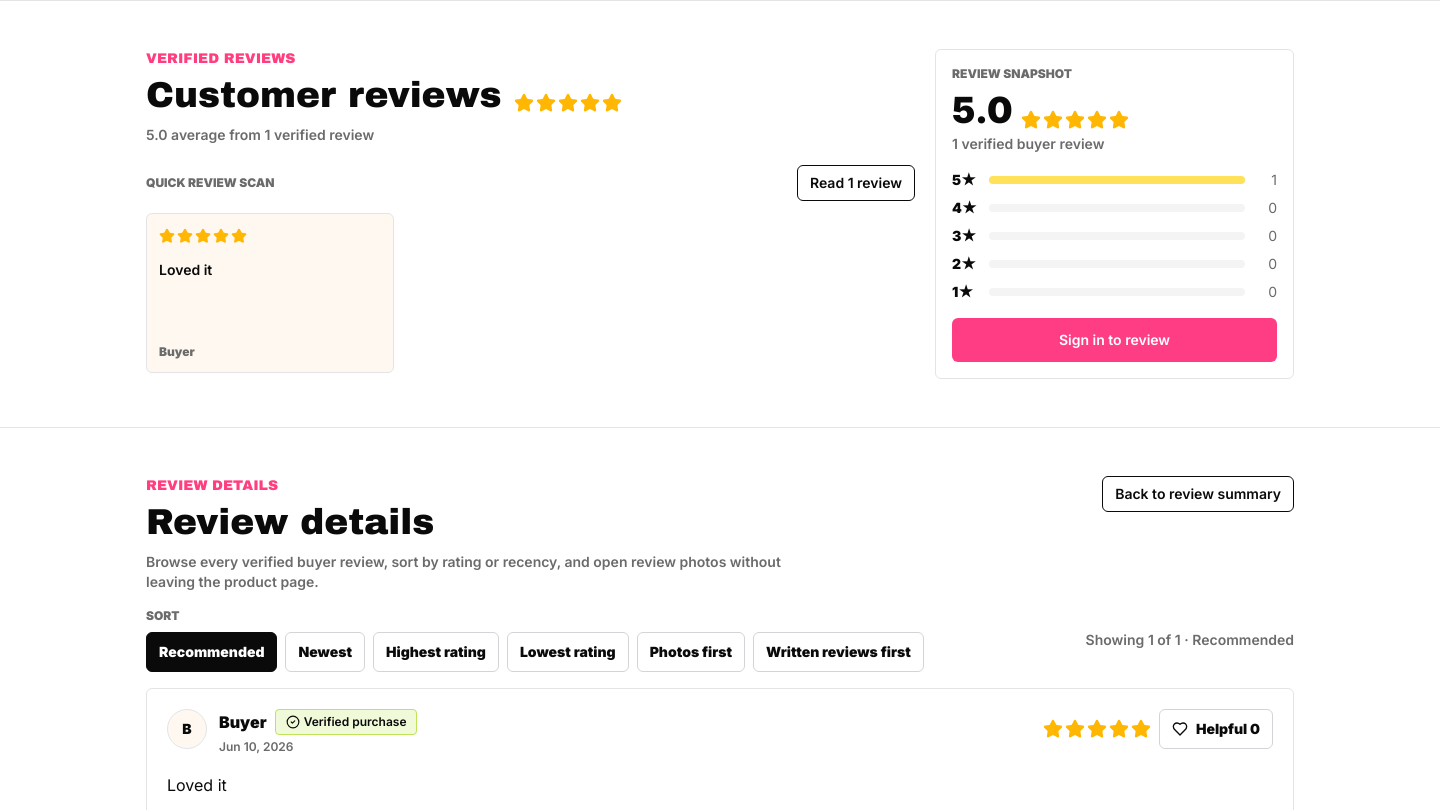
Scenario: ProductReviewsSection › shows an inline sign-in prompt beside helpful votes for anonymous users
Click the button with aria-label "Sign in to mark helpful": (1216, 729) x1=1159 y1=709 x2=1273 y2=749
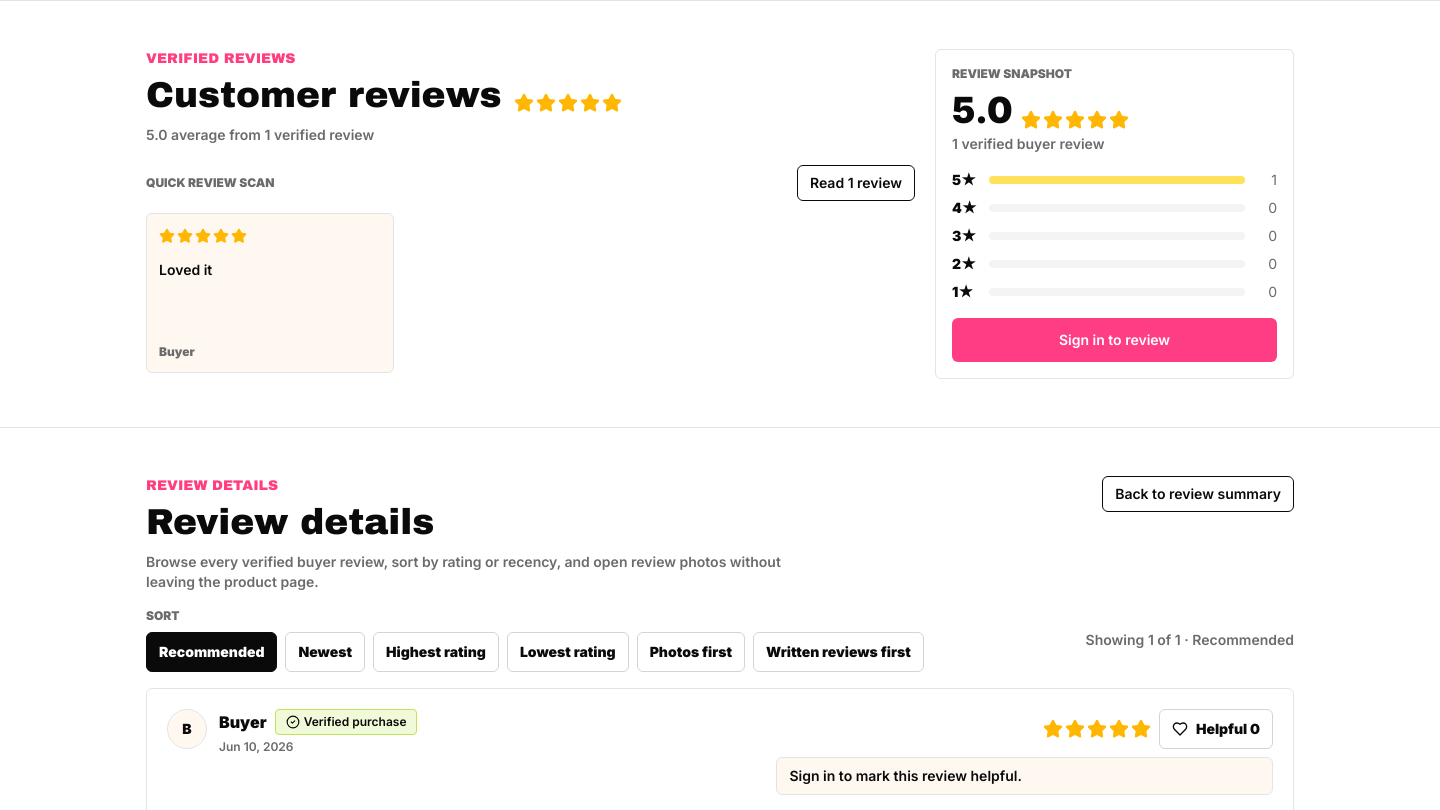
Expected: the text "Sign in to mark this review helpful." is shown, x1=776 y1=757 x2=1273 y2=795
